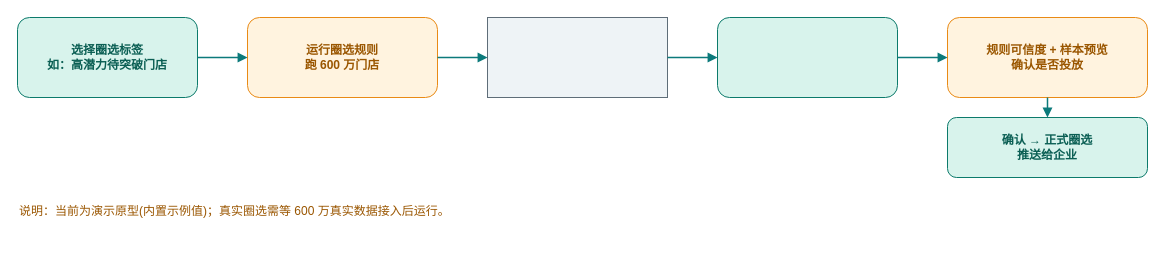
Some shapes in this 1165 by 255 pixel diagram are drawn without their labels. Each missing label, with the box of its shape:
预估可转化 GMV 价值估算: (716, 16, 898, 98)
预估命中规模 门店数 · 城市分布: (486, 16, 668, 98)
